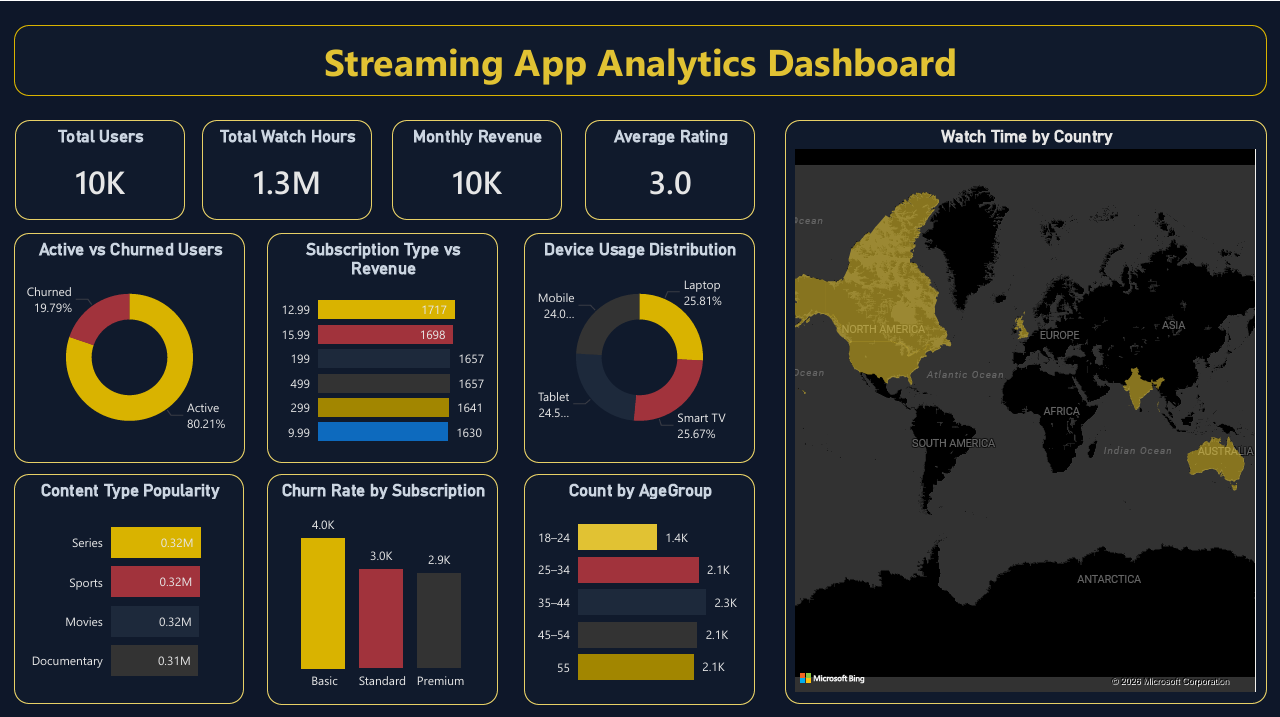

This screenshot's page, from the dashboard's own definition file:
{"tool":"powerbi","page":{"name":"Page 1","canvas":[1280,720],"ordinal":0},"visuals":[{"type":"cardVisual","title":"Total Users","fields":{"Data":["Count(streaming_app_dataset_10000_rows.User_ID)"]},"box":[13.2,117.2,181.4,100.2],"z":0},{"type":"donutChart","title":"Active vs Churned Users","fields":{"Category":["streaming_app_dataset_10000_rows.Churn_Status"],"Y":["CountNonNull(streaming_app_dataset_10000_rows.User_ID)"]},"box":[13.2,230.6,230.6,230.6],"z":1000},{"type":"cardVisual","title":"Total Watch Hours","fields":{"Data":["Sum(streaming_app_dataset_10000_rows.Watch_Time_Hours)"]},"box":[201.2,117.5,185,100],"z":2000},{"type":"cardVisual","title":"Monthly Revenue","fields":{"Data":["CountNonNull(streaming_app_dataset_10000_rows.Revenue)"]},"box":[396.7,116.7,180,100],"z":3000},{"type":"cardVisual","title":"Average Rating","fields":{"Data":["Avg(streaming_app_dataset_10000_rows.Rating)"]},"box":[585.8,117.2,179.5,100.2],"z":4000},{"type":"clusteredBarChart","title":"Subscription Type vs Revenue","fields":{"Category":["streaming_app_dataset_10000_rows.Revenue"],"Y":["CountNonNull(streaming_app_dataset_10000_rows.Subscription_Type)"]},"box":[272.1,230.6,230.6,230.6],"z":5000},{"type":"filledMap","title":"Watch Time by Country","fields":{"Category":["streaming_app_dataset_10000_rows.Country"]},"box":[784,118,482,584],"z":6000},{"type":"donutChart","title":"Device Usage Distribution","fields":{"Category":["streaming_app_dataset_10000_rows.Device"],"Y":["CountNonNull(streaming_app_dataset_10000_rows.User_ID)"]},"box":[534.8,230.6,230.6,230.6],"z":7000},{"type":"clusteredBarChart","title":"Content Type Popularity","fields":{"Category":["streaming_app_dataset_10000_rows.Content_Type"],"Y":["Sum(streaming_app_dataset_10000_rows.Watch_Time_Hours)"]},"box":[13.2,472.4,230,230],"z":8000},{"type":"columnChart","title":"Churn Rate by Subscription","fields":{"Category":["streaming_app_dataset_10000_rows.Subscription_Type"],"Y":["CountNonNull(streaming_app_dataset_10000_rows.Churn_Status)"]},"box":[272.1,472.4,230.6,230.6],"z":9000},{"type":"barChart","title":"Count by AgeGroup","fields":{"Y":["CountNonNull(streaming_app.User_ID)"],"Category":["streaming_app.AgeGroup"]},"box":[534.8,472.4,230.6,230.6],"z":10000},{"type":"textbox","box":[13.2,22.7,1252.9,71.8],"z":11000}]}

Visuals, with their boxes in screenshot pixels (x1, y1, x2, y2), scaled from the page's 1280x720 canvas onto the 1280x717 screenshot:
"Total Users" cardVisual: Rect(13, 117, 195, 216)
"Active vs Churned Users" donutChart: Rect(13, 230, 244, 459)
"Total Watch Hours" cardVisual: Rect(201, 117, 386, 217)
"Monthly Revenue" cardVisual: Rect(397, 116, 577, 216)
"Average Rating" cardVisual: Rect(586, 117, 765, 216)
"Subscription Type vs Revenue" clusteredBarChart: Rect(272, 230, 503, 459)
"Watch Time by Country" filledMap: Rect(784, 118, 1266, 699)
"Device Usage Distribution" donutChart: Rect(535, 230, 765, 459)
"Content Type Popularity" clusteredBarChart: Rect(13, 470, 243, 699)
"Churn Rate by Subscription" columnChart: Rect(272, 470, 503, 700)
"Count by AgeGroup" barChart: Rect(535, 470, 765, 700)
textbox: Rect(13, 23, 1266, 94)
